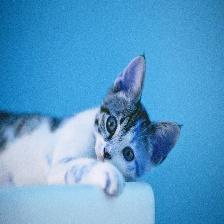kedo: (1, 57, 180, 194)
